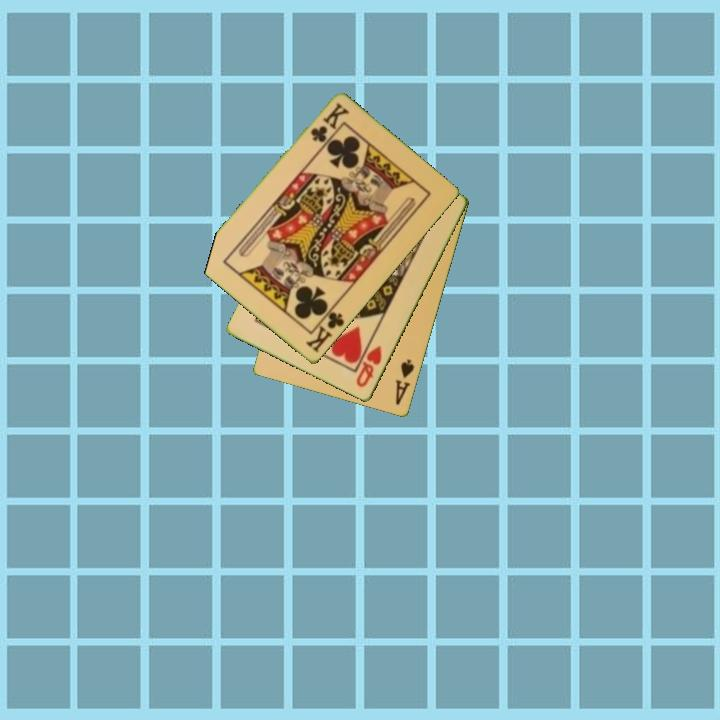As: (392, 356, 417, 409)
Kc: (302, 303, 348, 356), (307, 99, 351, 146)
Qh: (353, 343, 385, 391)
